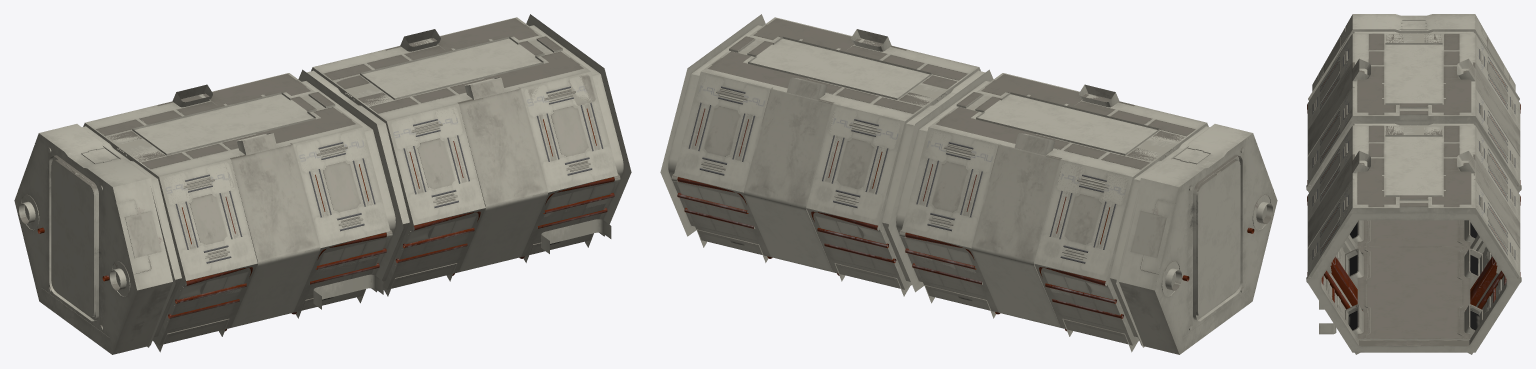
File: scificorridordoorsf.fbx
The picture shows the model from 3 angles, left to right: view 1: azimuth 30°, elevation 25°; view 2: azimuth 150°, elevation 25°; view 3: azimuth 270°, elevation 25°; orthographic projection. The views are drawn at different scales.
Parts seen in each view (by area): view 1: Cylinder.005, Cylinder.006; view 2: Cylinder.005, Cylinder.006; view 3: Cylinder.005, Cylinder.006.
Part boxes in pixels (x1,y1,x2,y2): Cylinder.005: (82, 14, 631, 352); Cylinder.006: (14, 124, 174, 354); Cylinder.005: (660, 14, 1209, 352); Cylinder.006: (1117, 124, 1277, 354); Cylinder.005: (1306, 29, 1521, 354); Cylinder.006: (1312, 14, 1515, 91).
Size of the model in its own units: 1792 by 654 by 812.
